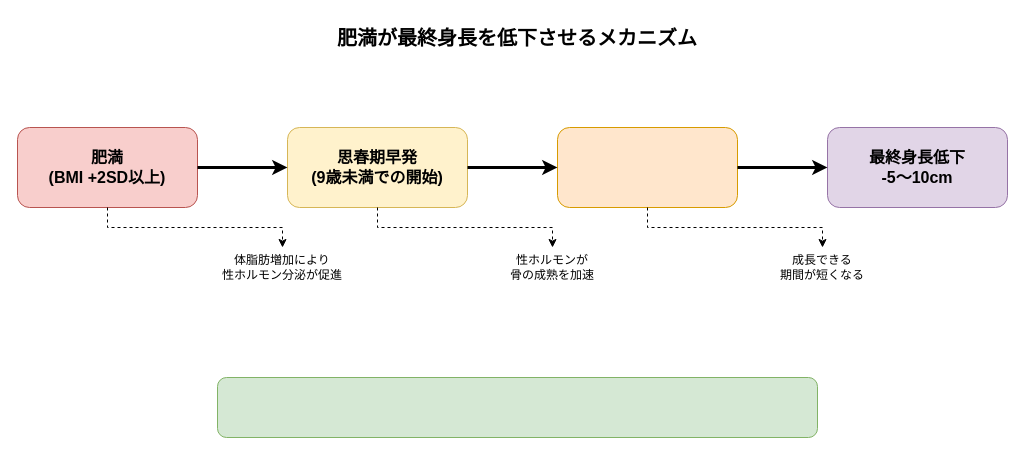
Image size: 1025x455. Some labels were removed from this diagram. The shapes that lost their labels are listed below. From the top down, each one's box as (x1, y1, x2, y2) in pixels, then its label:
(556, 126, 738, 208): 骨端線早期閉鎖 (成長期間の短縮)
(216, 376, 818, 438): ⚠️ 注意：肥満の期間が長いほど影響が大きい 早期の体重管理が重要
